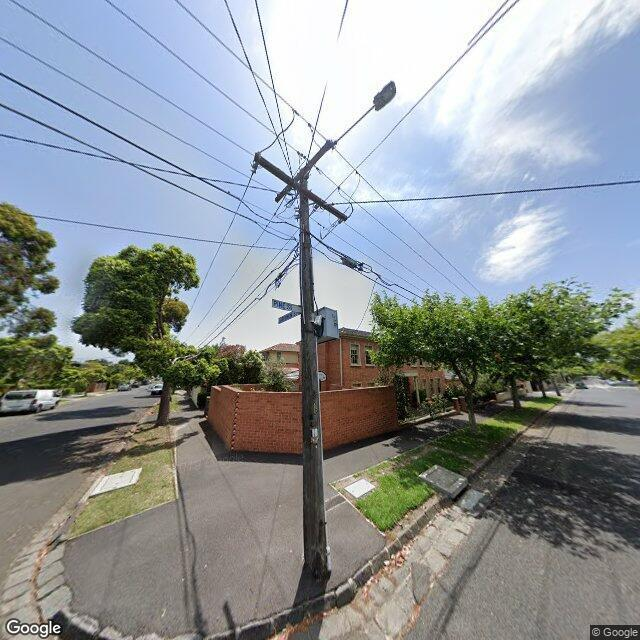crossarm: (250, 108, 360, 223), (274, 139, 334, 203)
streetlight: (334, 80, 398, 146)
timber-pole: (299, 168, 329, 574)
